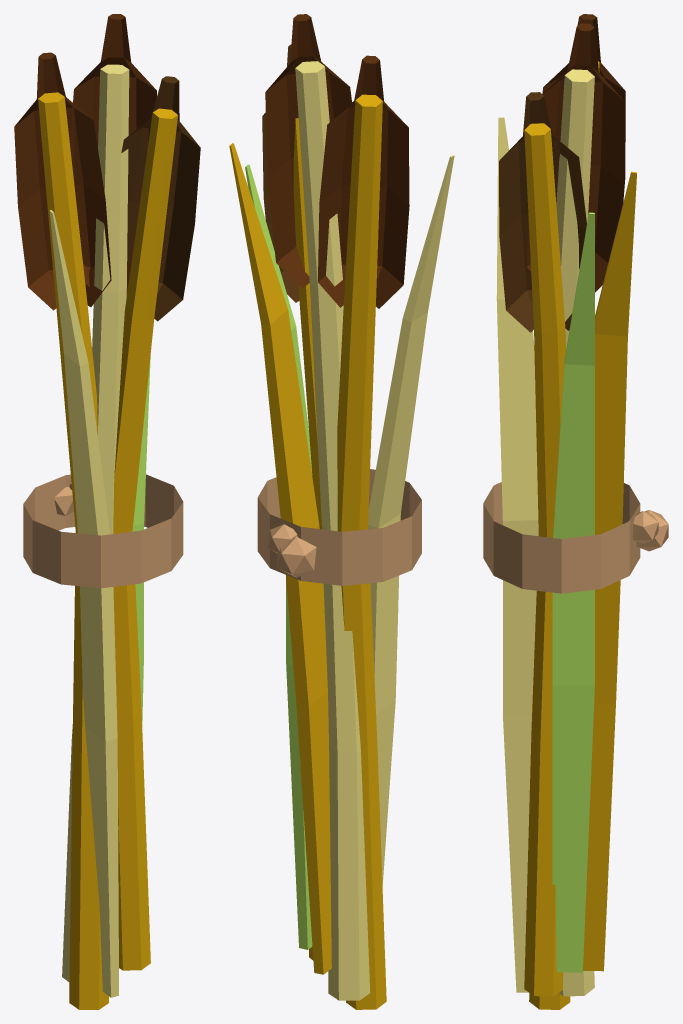
Rendered from fiber.fbx.
3 renders of one model, left to right at view 1: azimuth 30°, elevation 25°; view 2: azimuth 150°, elevation 25°; view 3: azimuth 270°, elevation 25°, orthographic. The views are drawn at different scales.
Visible parts, largest first — view 1: Stem_Right, Leaf_2, Stem_Left, Stem_Center, TwineBand, Head_Left, Head_Right, Head_Center, Leaf_3; view 2: Stem_Center, Stem_Left, Leaf_1, Leaf_2, Head_Left, TwineBand, Head_Center, Leaf_3, Stem_Right, Head_Right; view 3: Leaf_3, Stem_Right, Leaf_1, Leaf_2, TwineBand, Head_Center, Head_Right, Stem_Center, Head_Left, Stem_Left.
Part boxes in pixels (x1,y1,x2,y2): Stem_Right: (113, 108, 177, 970); Leaf_2: (49, 210, 118, 997); Stem_Left: (38, 92, 108, 1009); Stem_Center: (62, 64, 129, 981); TwineBand: (23, 474, 183, 588); Head_Left: (14, 52, 111, 310); Head_Right: (121, 76, 200, 321); Head_Center: (70, 14, 156, 288); Leaf_3: (132, 356, 150, 723); Stem_Center: (295, 61, 370, 1000); Stem_Left: (337, 94, 386, 1009); Leaf_1: (229, 143, 331, 974); Leaf_2: (368, 155, 454, 884); Head_Left: (318, 55, 409, 308); TwineBand: (257, 469, 421, 585); Head_Center: (265, 14, 351, 288); Leaf_3: (245, 164, 312, 949); Stem_Right: (293, 118, 321, 960); Head_Right: (262, 44, 299, 302); Leaf_3: (552, 212, 594, 972); Stem_Right: (524, 123, 565, 996); Leaf_1: (583, 171, 636, 971); Leaf_2: (496, 117, 538, 992); TwineBand: (483, 482, 668, 593); Head_Center: (526, 23, 624, 292); Head_Right: (499, 92, 586, 332); Stem_Center: (556, 69, 594, 996); Head_Left: (542, 14, 625, 204); Stem_Left: (529, 61, 599, 1009).
Bounding box in the file's own units: 0.3139 × 1.83 × 0.3073.
